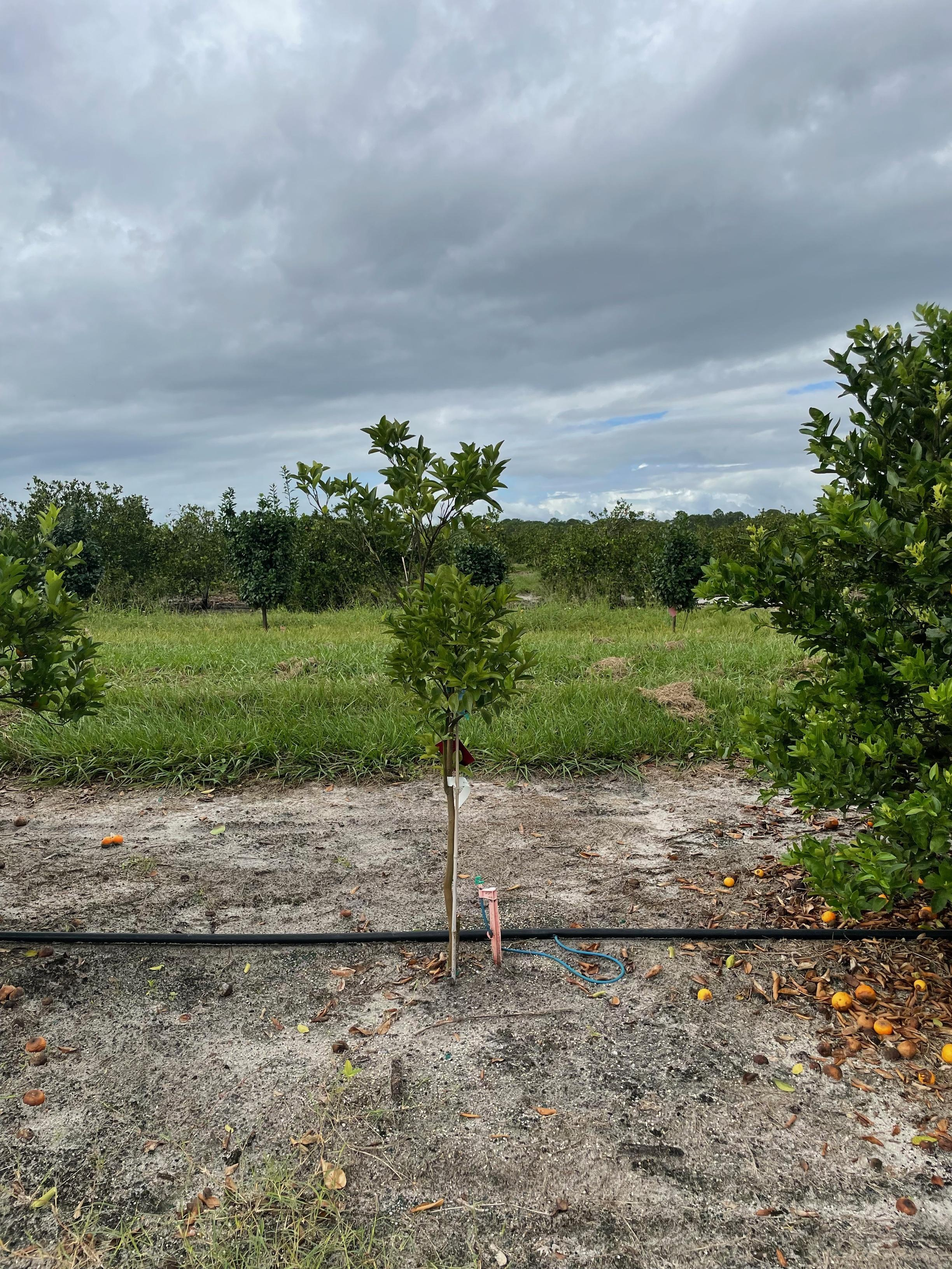fruit_on_ground: (27, 691, 48, 712), (14, 641, 33, 660)
fruit_on_tree: (829, 989, 855, 1013), (894, 1195, 919, 1218), (853, 983, 878, 1005), (21, 1086, 46, 1106), (898, 1040, 920, 1060), (915, 1068, 937, 1087), (822, 1062, 844, 1081), (26, 1033, 48, 1052), (856, 1011, 876, 1030), (873, 1017, 893, 1036), (0, 982, 18, 1001), (918, 904, 938, 921), (819, 908, 838, 924), (940, 1042, 952, 1065), (38, 943, 56, 958), (696, 987, 713, 1002), (912, 977, 928, 992), (823, 816, 839, 830), (100, 834, 114, 847), (722, 875, 736, 888), (110, 833, 124, 844), (865, 817, 876, 829), (753, 867, 765, 878)
